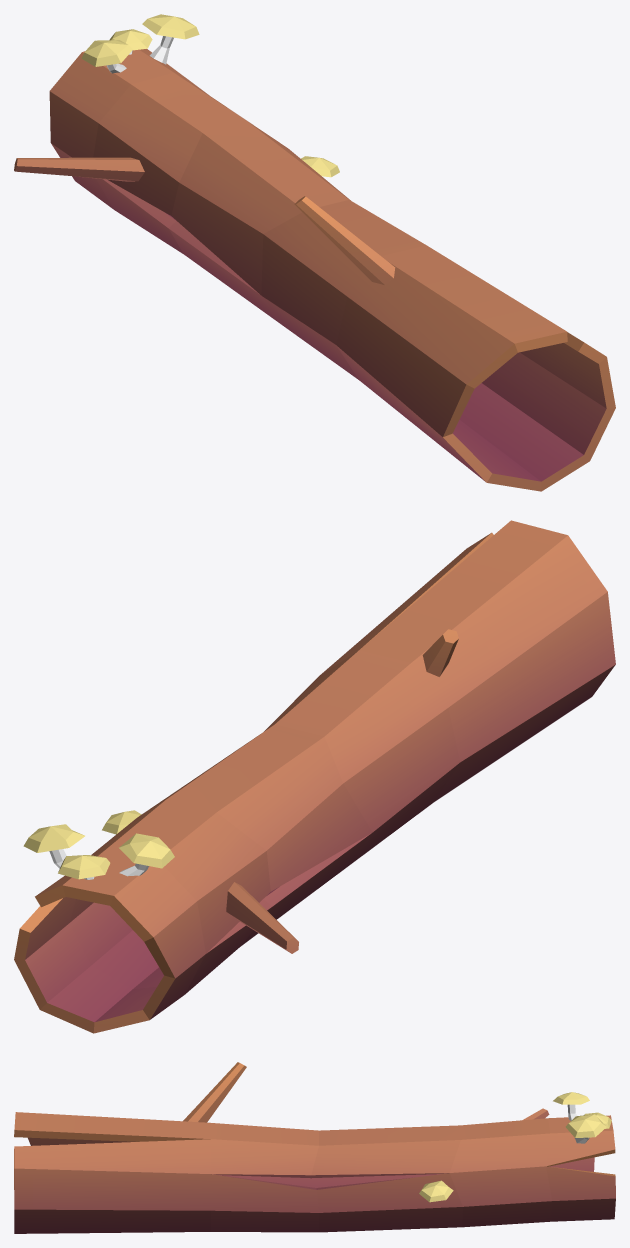
Rendered from WoodLog.fbx.
The picture shows the model from 3 angles, top to bottom: view 1: azimuth 30°, elevation 25°; view 2: azimuth 150°, elevation 25°; view 3: azimuth 270°, elevation 25°; orthographic projection. The views are drawn at different scales.
Visible parts, largest first — view 1: WoodLog; view 2: WoodLog; view 3: WoodLog.
Part boxes in pixels (bbox=[...]): WoodLog: bbox=[14, 14, 615, 491]; WoodLog: bbox=[14, 520, 615, 1033]; WoodLog: bbox=[14, 1062, 615, 1233].
Bounding box in the file's own units: 0.8966 × 0.6883 × 2.67.
